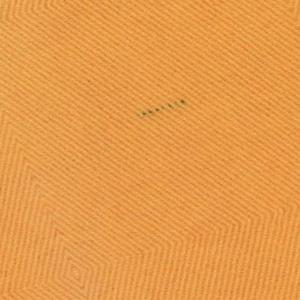stain: (133, 96, 193, 121)
